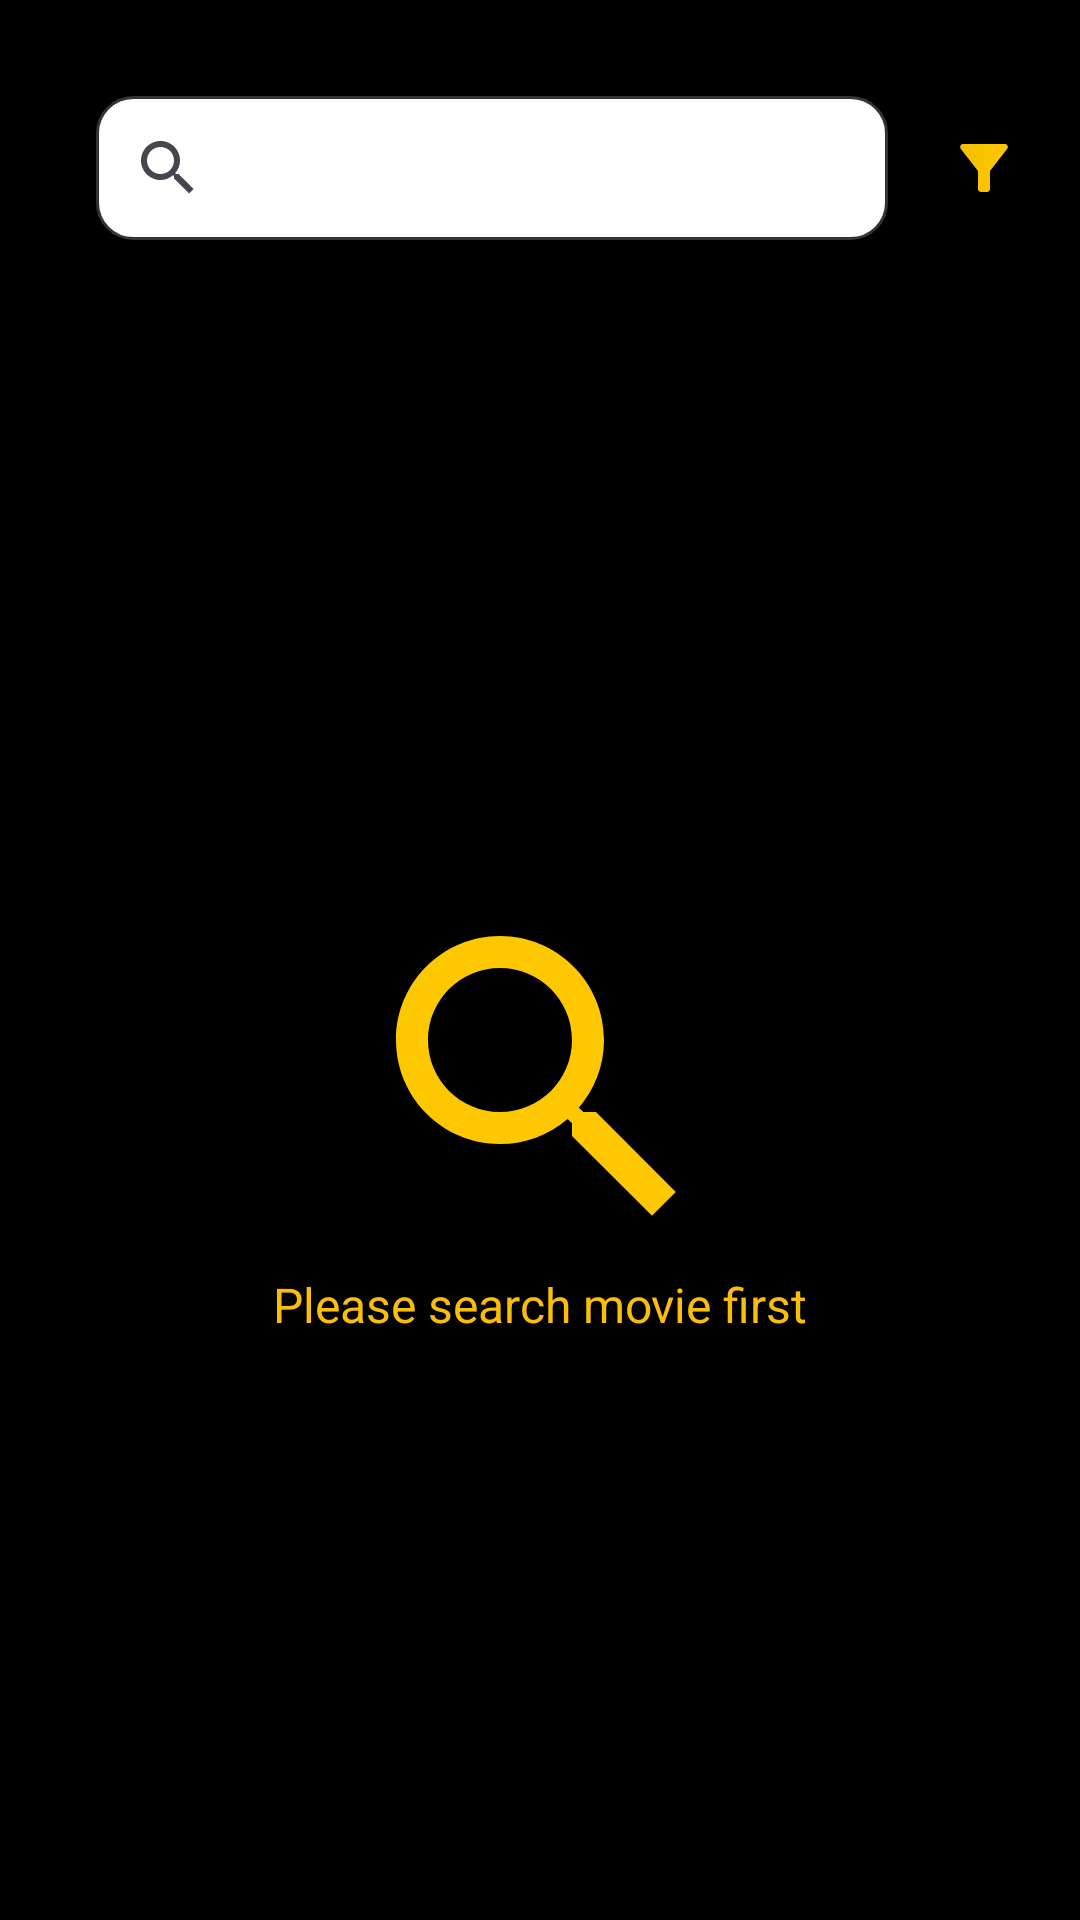

Screen size 1080w x 1920h. Icon name, then its box in pixels as (x1, y1, x2, y2):
filter: (960, 144, 1008, 192)
